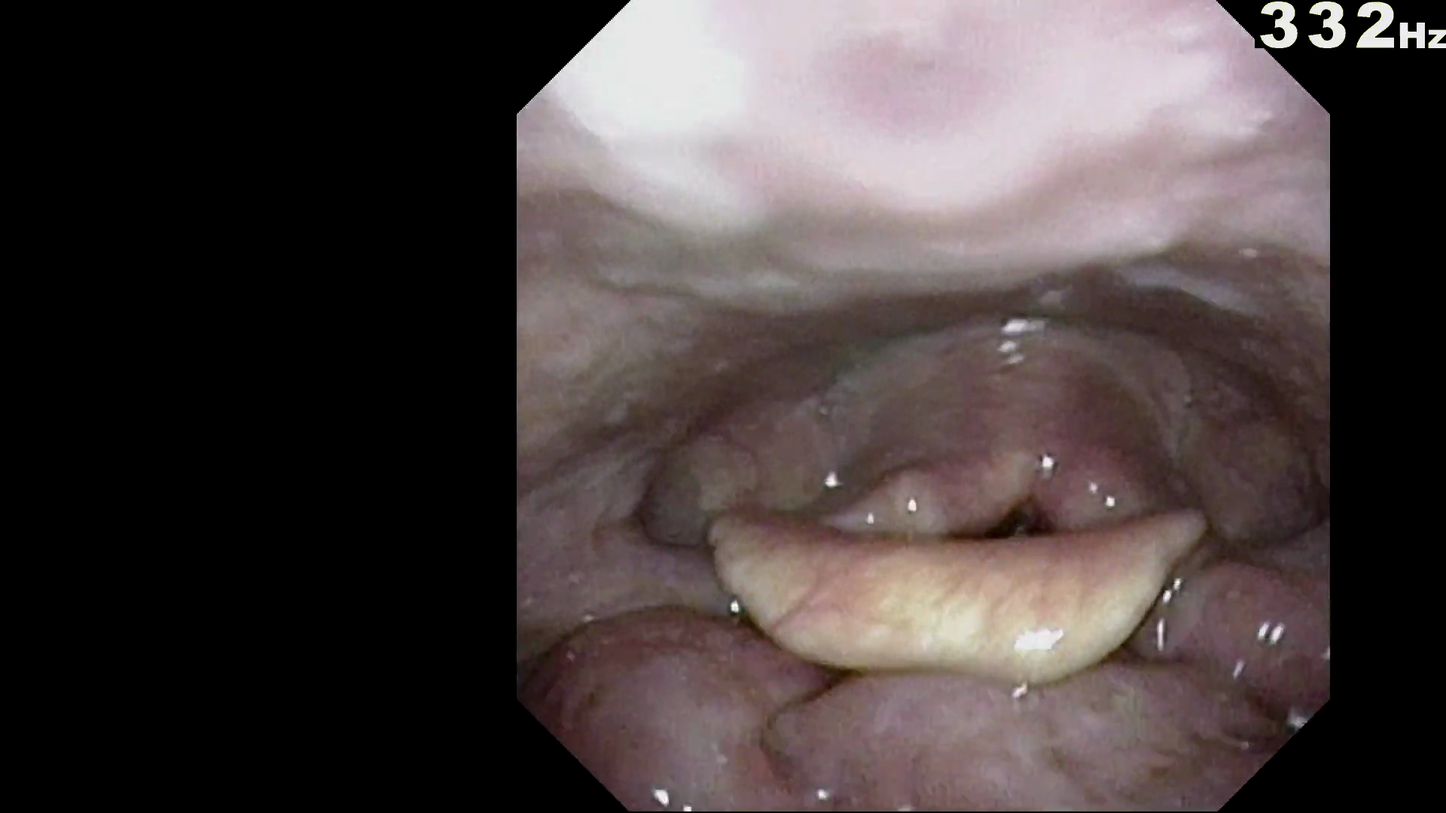epiglottis: (703, 515, 1245, 673)
trachea: (958, 469, 1076, 569)
